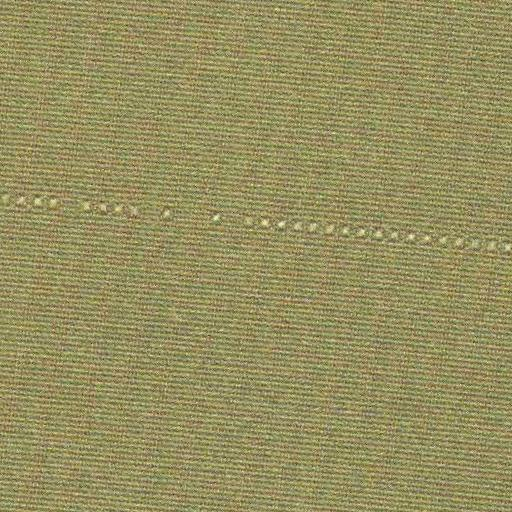slub: (3, 180, 512, 277)
